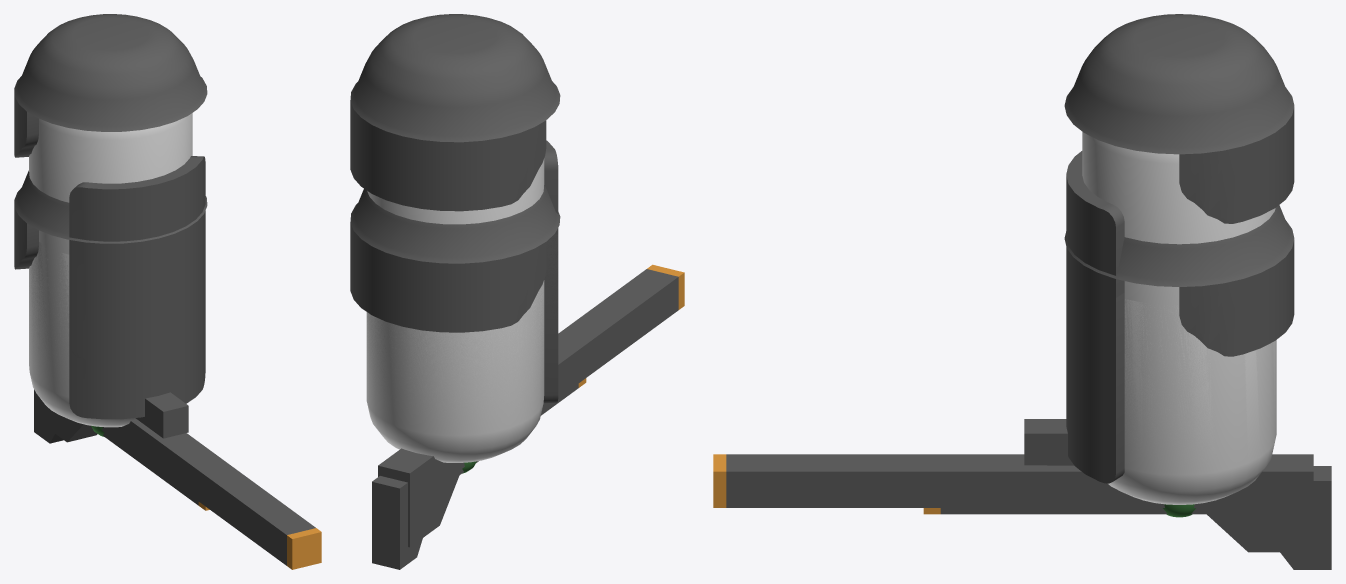
The model's file is Player.fbx.
3 views of the same model, side by side, from view 1: azimuth 30°, elevation 25°; view 2: azimuth 150°, elevation 25°; view 3: azimuth 270°, elevation 25° (orthographic). The views are drawn at different scales.
Visible parts, largest first — view 1: Body Armor, Helmet, Body, Sniper Rifle, Body Armor.001, Helmet.001, Body.001, Cube.001; view 2: Helmet, Body, Helmet.001, Sniper Rifle, Body.001, Cube.001, Body Armor.001, Body Armor; view 3: Body, Helmet, Sniper Rifle, Helmet.001, Body Armor, Body.001, Body Armor.001, Cube.001.
Boxes of the visible parts, bbox=[...] form: Body Armor: bbox=[69, 156, 205, 360]; Helmet: bbox=[14, 14, 207, 157]; Body: bbox=[29, 113, 192, 427]; Sniper Rifle: bbox=[39, 392, 321, 569]; Body Armor.001: bbox=[69, 315, 205, 419]; Helmet.001: bbox=[14, 170, 207, 269]; Body.001: bbox=[29, 242, 69, 396]; Cube.001: bbox=[34, 389, 209, 510]; Helmet: bbox=[350, 14, 560, 211]; Body: bbox=[366, 158, 544, 462]; Helmet.001: bbox=[350, 185, 560, 332]; Sniper Rifle: bbox=[378, 264, 684, 547]; Body.001: bbox=[366, 280, 544, 434]; Cube.001: bbox=[372, 378, 586, 569]; Body Armor.001: bbox=[543, 234, 558, 403]; Body Armor: bbox=[544, 140, 558, 319]; Body: bbox=[1082, 132, 1276, 504]; Helmet: bbox=[1064, 14, 1294, 223]; Sniper Rifle: bbox=[713, 419, 1313, 552]; Helmet.001: bbox=[1064, 205, 1294, 356]; Body Armor: bbox=[1066, 151, 1124, 413]; Body.001: bbox=[1124, 299, 1276, 474]; Body Armor.001: bbox=[1066, 292, 1124, 483]; Cube.001: bbox=[923, 466, 1331, 569].
Bounding box in the file's own units: 236 × 595 × 635.
